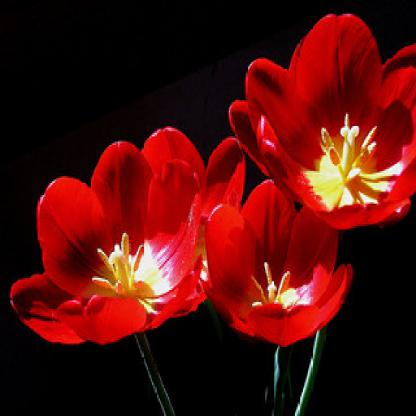TULIP: (14, 44, 408, 391)
